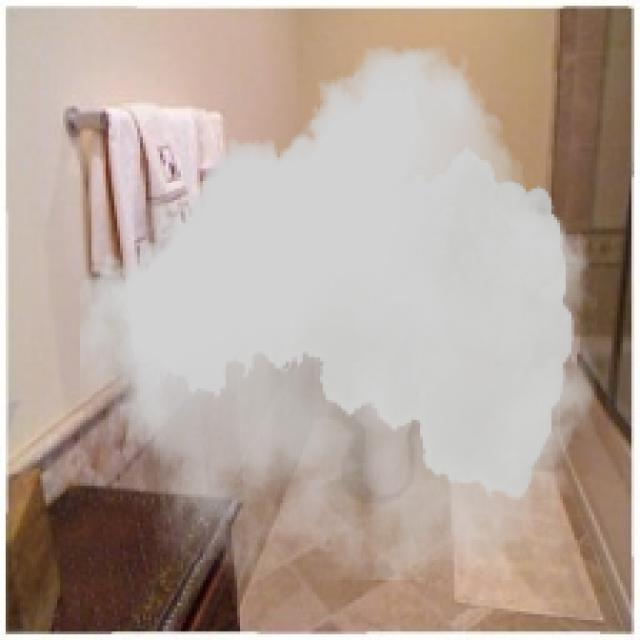Smoke: (80, 46, 597, 580)
